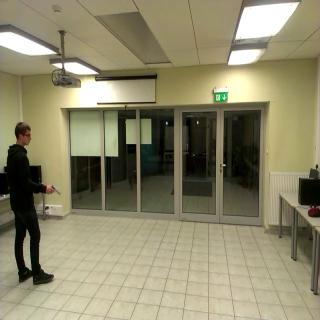gun: (44, 179, 60, 194)
